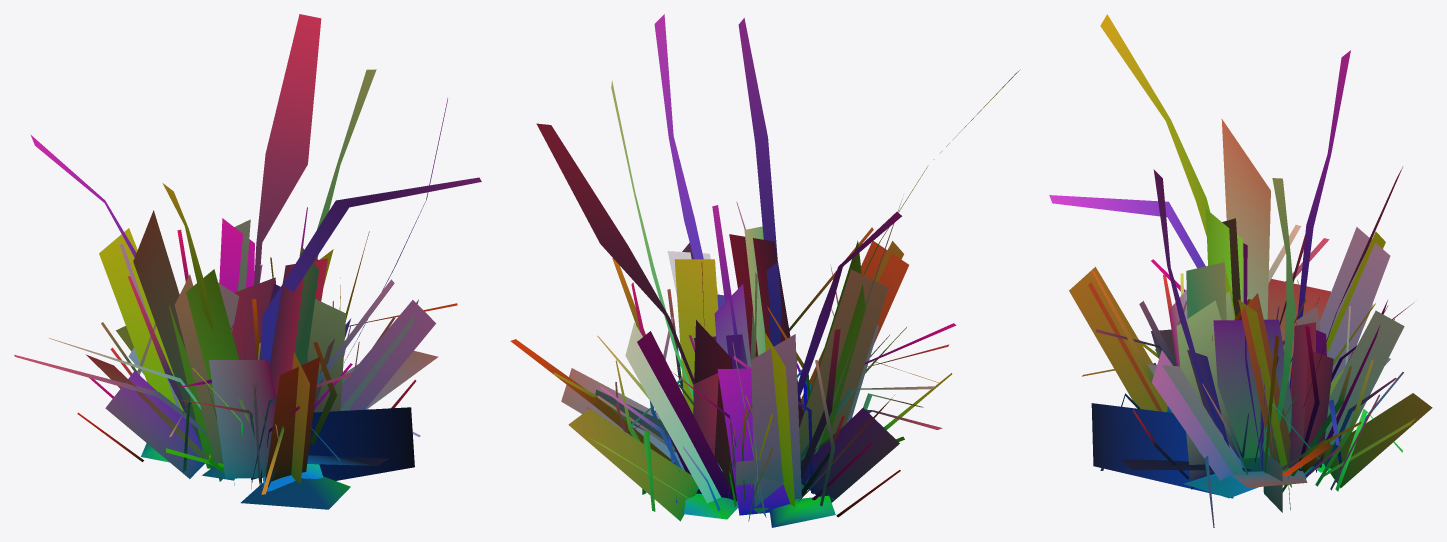
File: uddmcgbia_VarH_LOD2.fbx
The picture shows the model from 3 angles, left to right: view 1: azimuth 30°, elevation 25°; view 2: azimuth 150°, elevation 25°; view 3: azimuth 270°, elevation 25°; orthographic projection. The views are drawn at different scales.
Visible parts, largest first — view 1: _491e_VarH_LOD3; view 2: _491e_VarH_LOD3; view 3: _491e_VarH_LOD3.
Boxes of the visible parts, bbox=[...] form: _491e_VarH_LOD3: bbox=[14, 14, 481, 509]; _491e_VarH_LOD3: bbox=[510, 14, 1020, 527]; _491e_VarH_LOD3: bbox=[1049, 14, 1432, 527].
Size of the model in its own units: 41.65 by 37.59 by 33.18.
